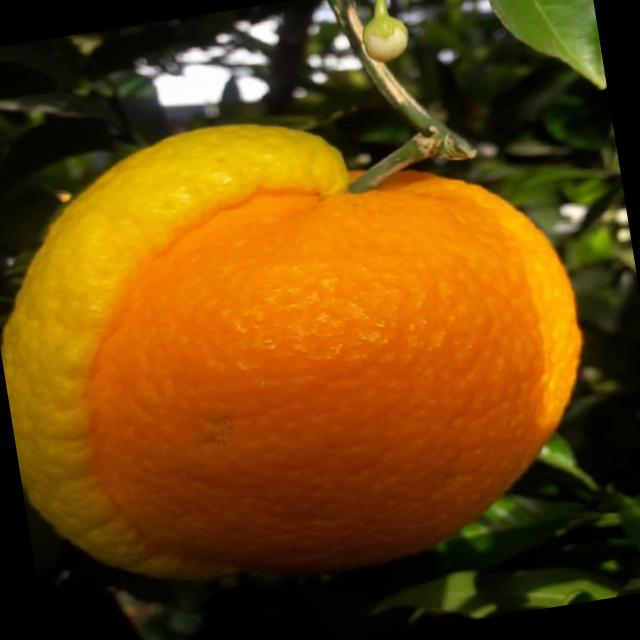orange: (27, 133, 622, 623)
